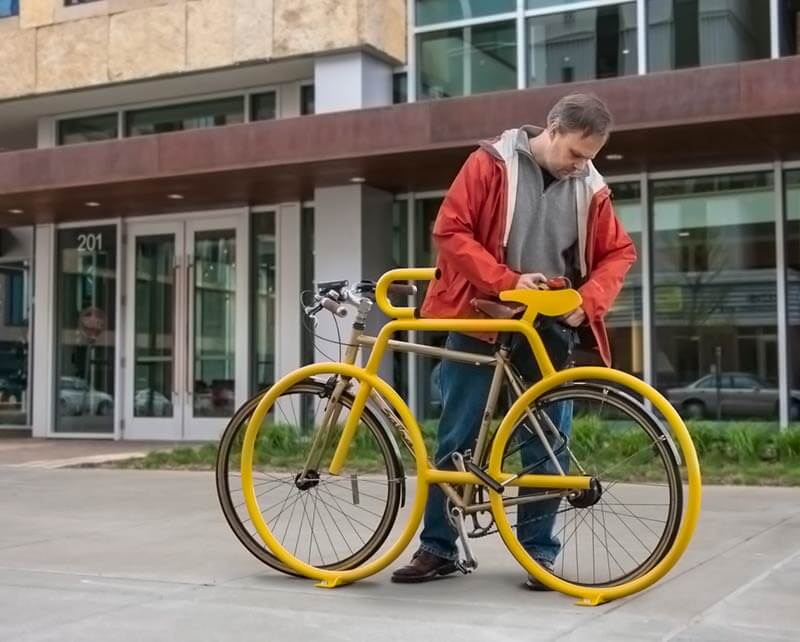Bicycle: (220, 267, 708, 605)
